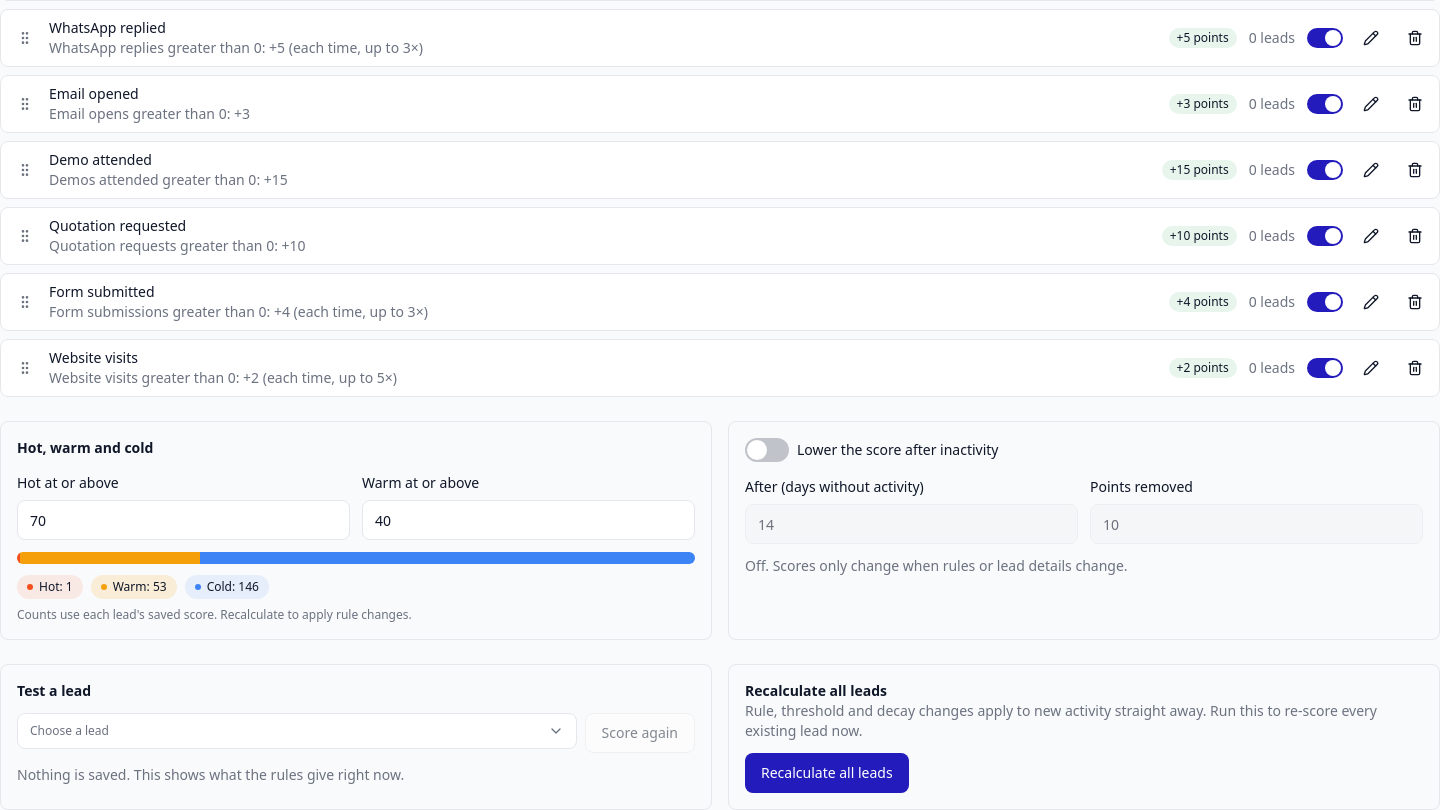
it: ScoringSettingsPage › tests a lead and shows the exact breakdown
This screenshot has width=1440, height=810.
(page scrolled)
Click the dropdown named "Lead to score" at (70, 730), box [17, 713, 576, 749]
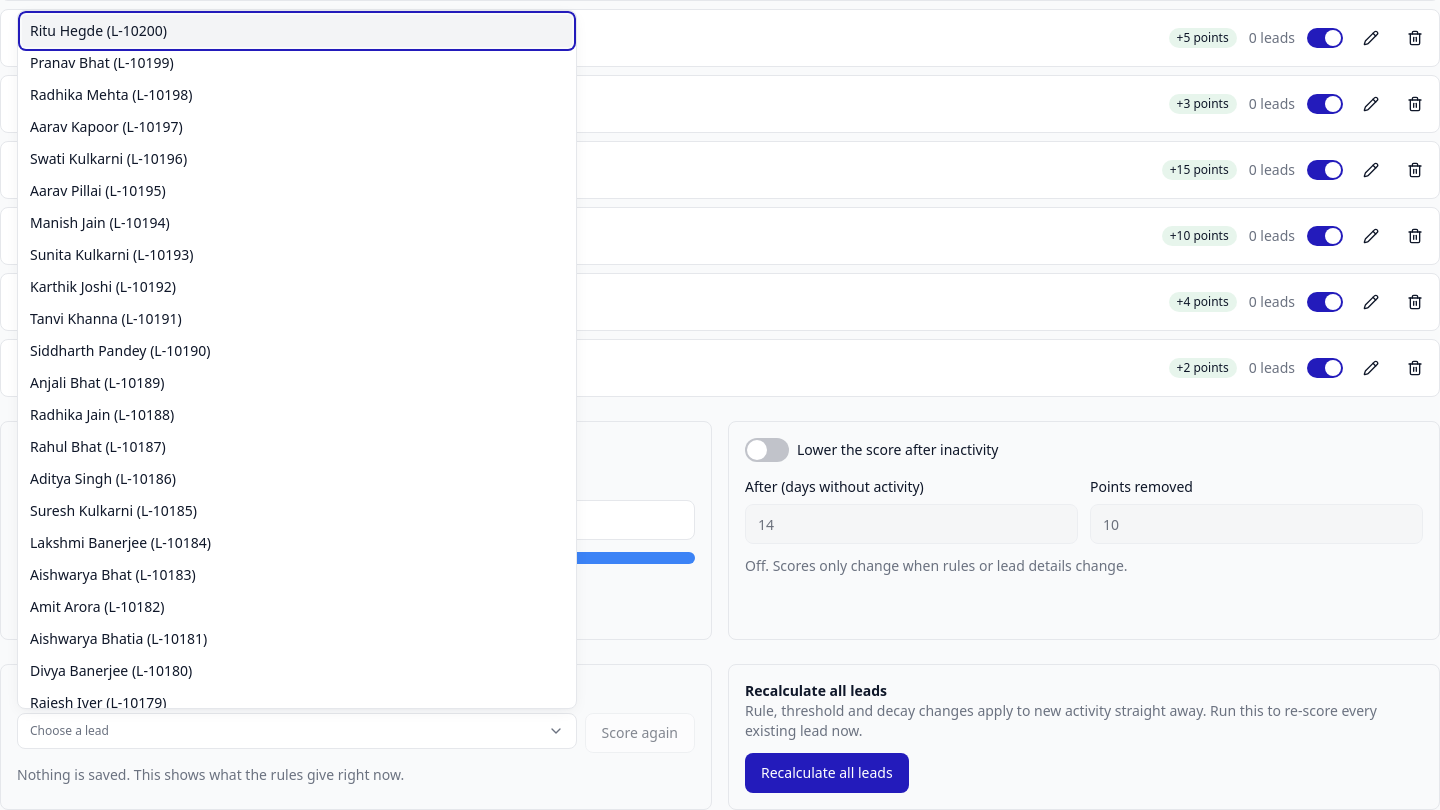
Click the option "Ritu Hegde (L-10200)" at (98, 30), box [22, 15, 572, 47]
(page scrolled)
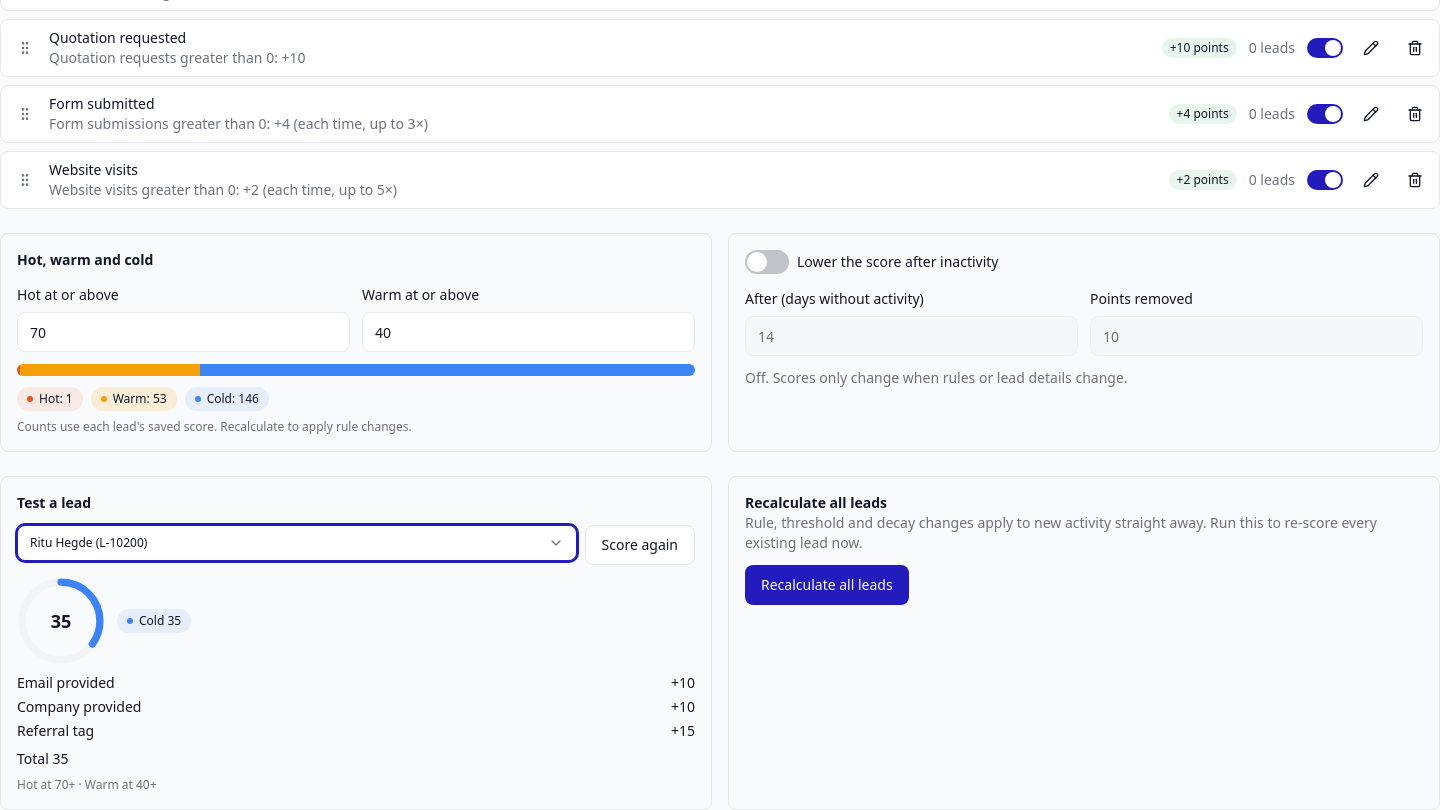
Expected: the text "Total 35" is shown, [17, 749, 68, 768]
